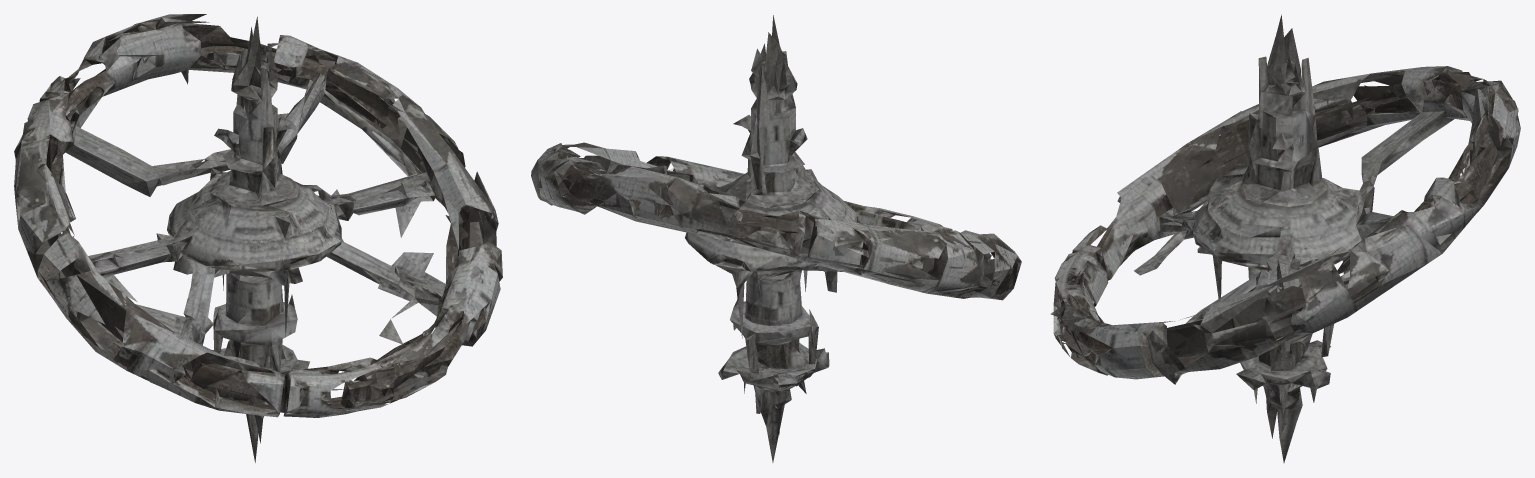
File: monument_abandoned_station.glb
3 renders of one model, left to right at view 1: azimuth 30°, elevation 25°; view 2: azimuth 150°, elevation 25°; view 3: azimuth 270°, elevation 25°, orthographic.
Size of the model in its own units: 1.89 by 1.89 by 1.79.
1 material, 1 textured.
